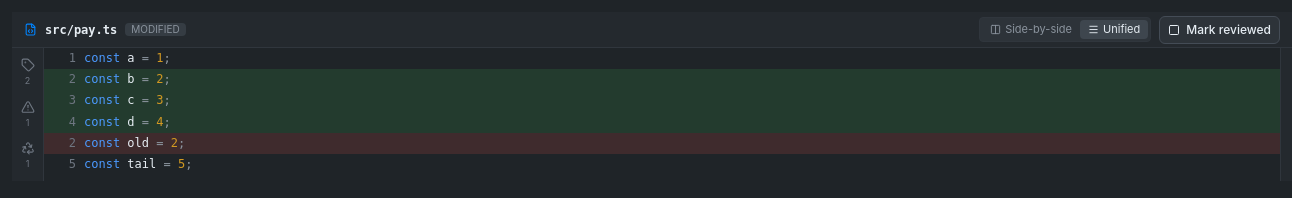
Test: ReviewDiffPane › renders every tag as a draggable chip in the rail's flyout
Click the button with test id "review-tag-rail-tags" at (28, 73), box [14,54,42,92]
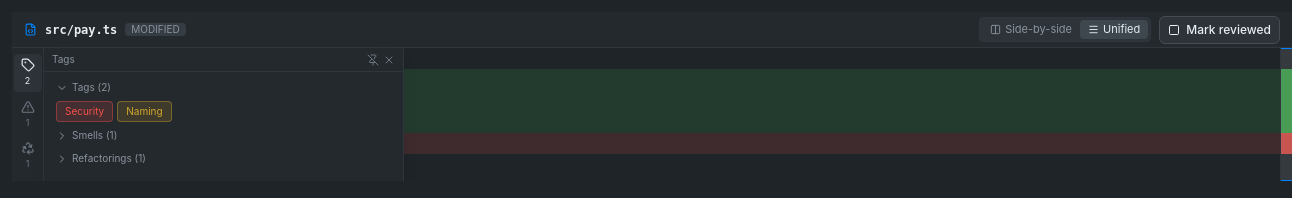
Expected: the button "Security" is shown, [56,101,113,122]
Expected: the button "Naming" is shown, [117,101,172,122]
Expected: the button "Tags (2)" is shown, [56,78,391,97]
